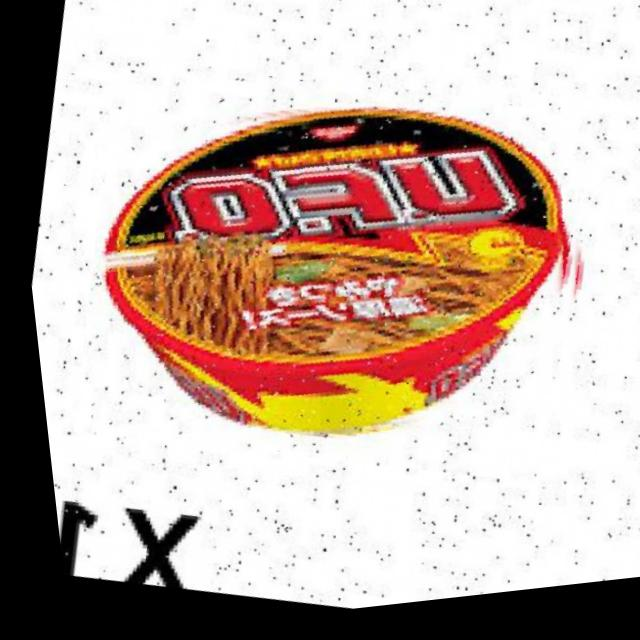Miscellaneous: (32, 20, 636, 542)
